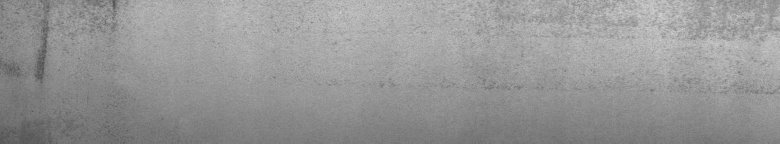ib: (650, 12, 774, 94)
